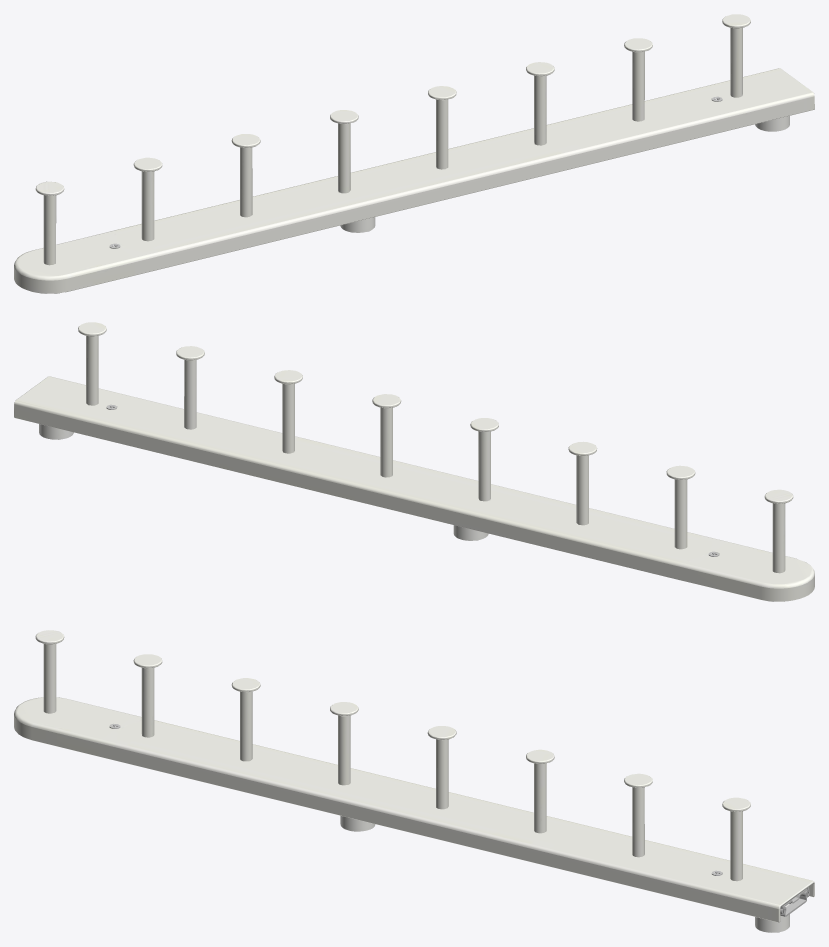
The model's file is komplement_wysuwany_wieszak_wielofunkcyjny_80262489.glb.
The picture shows the model from 3 angles, top to bottom: view 1: azimuth 30°, elevation 25°; view 2: azimuth 150°, elevation 25°; view 3: azimuth 330°, elevation 25°; orthographic projection.
Visible parts, largest first — view 1: komplement_wysuwany_wieszak_wielofunkcyjny_80262489; view 2: komplement_wysuwany_wieszak_wielofunkcyjny_80262489; view 3: komplement_wysuwany_wieszak_wielofunkcyjny_80262489.
Boxes of the visible parts, x1,y1,x2,y2 form: komplement_wysuwany_wieszak_wielofunkcyjny_80262489: (14, 14, 814, 293); komplement_wysuwany_wieszak_wielofunkcyjny_80262489: (14, 322, 814, 601); komplement_wysuwany_wieszak_wielofunkcyjny_80262489: (14, 630, 814, 932).
Bounding box in the file's own units: 0.5635 × 0.0786 × 0.045.
Materials: 1 (1 with a texture image).
